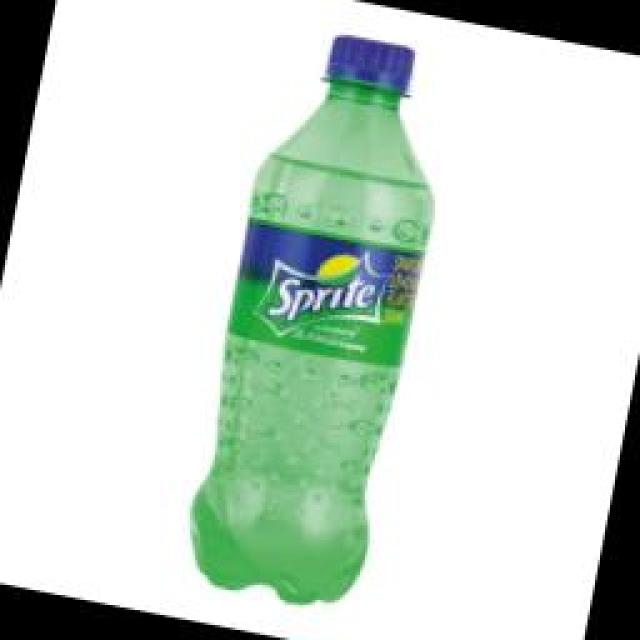bottle: (190, 33, 433, 605)
